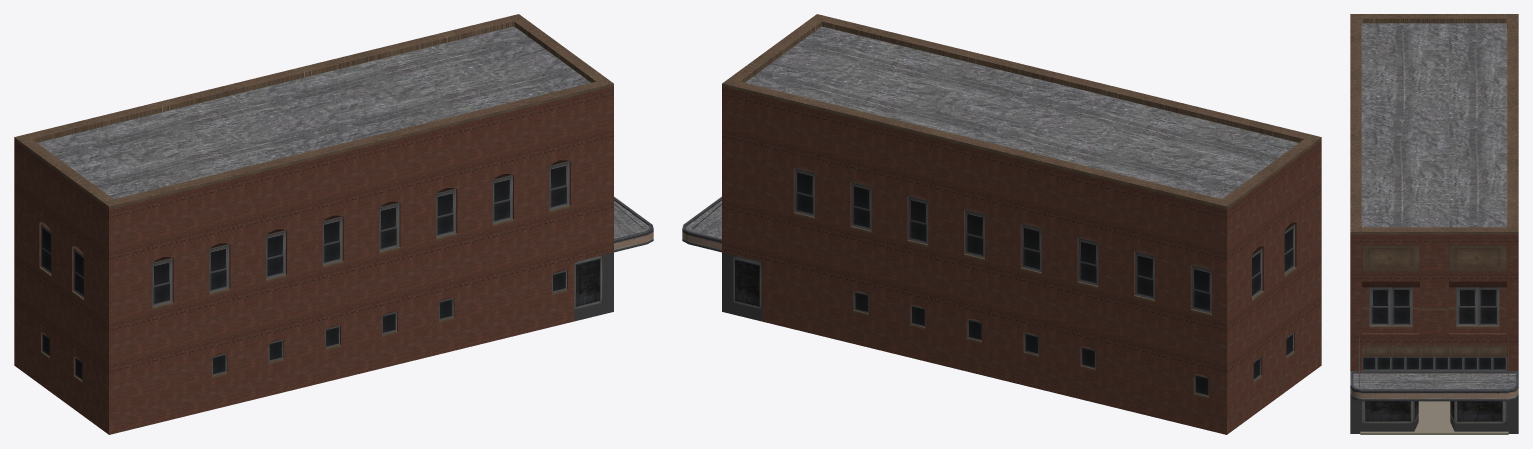
Rendered from brick-shop.walls-v2.lod0.glb.
3 views of the same model, side by side, from view 1: azimuth 30°, elevation 25°; view 2: azimuth 150°, elevation 25°; view 3: azimuth 270°, elevation 25° (orthographic). The views are drawn at different scales.
Parts seen in each view (by area): view 1: Object_4; view 2: Object_4; view 3: Object_4, Walkable floors and stairs.
Boxes of the visible parts, <box> form: Object_4: <box>14,14,653,434</box>; Object_4: <box>682,14,1321,434</box>; Object_4: <box>1350,14,1518,433</box>; Walkable floors and stairs: <box>1360,401,1508,434</box>.
Size of the model in its own units: 24.23 by 9.61 by 7.24.
Materials: 2 (1 with a texture image).
